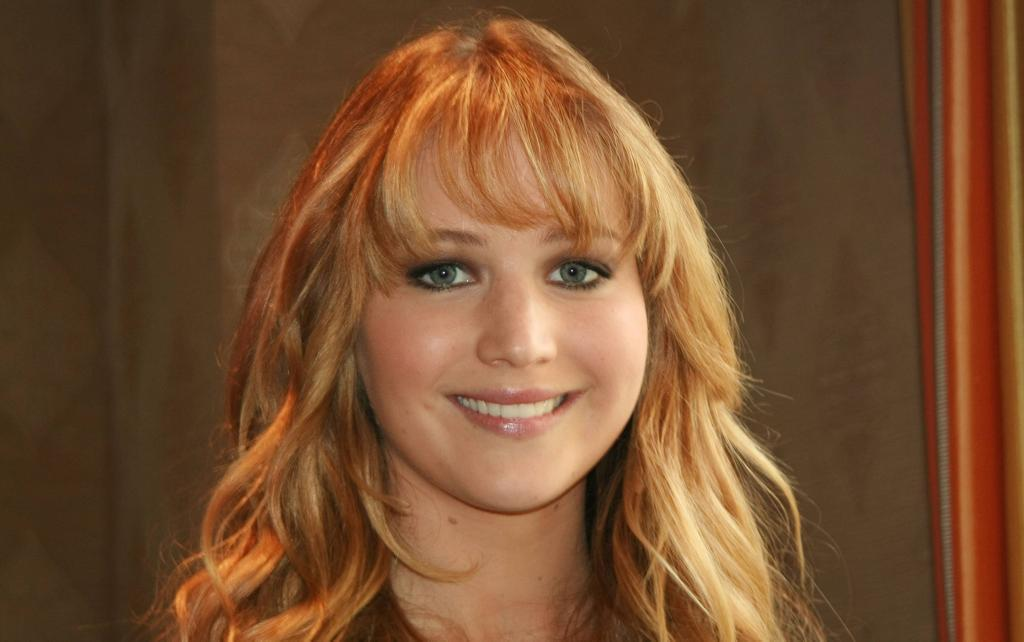face: (351, 159, 649, 517)
